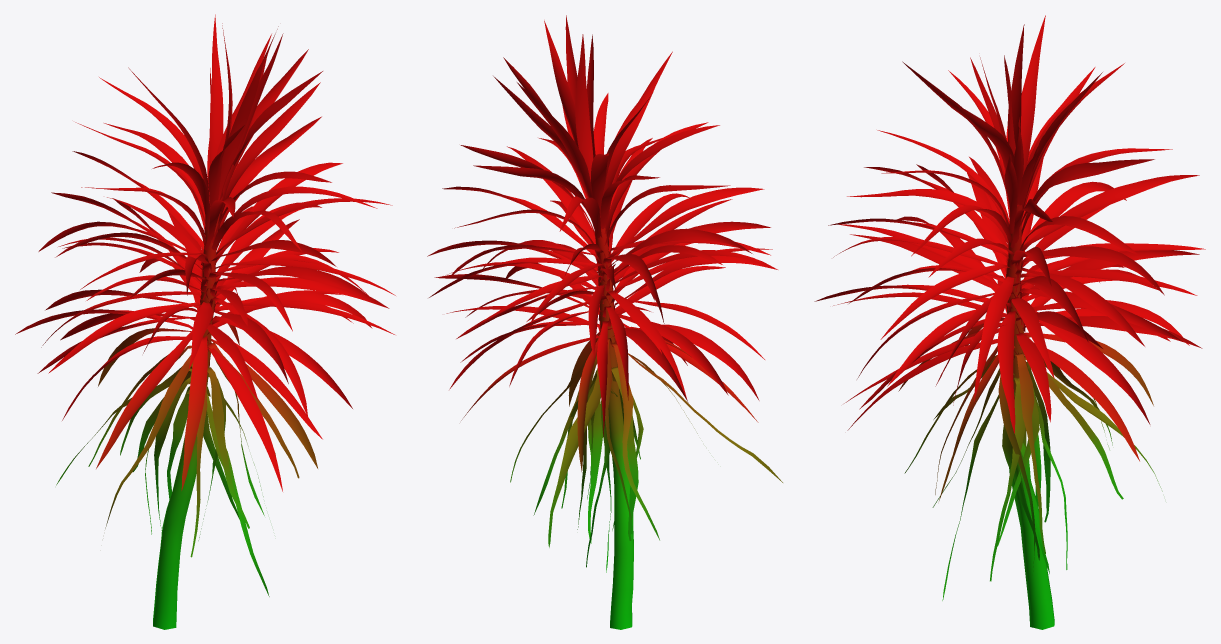
Rendered from Var1_LOD2.fbx.
The picture shows the model from 3 angles, left to right: view 1: azimuth 30°, elevation 25°; view 2: azimuth 150°, elevation 25°; view 3: azimuth 270°, elevation 25°; orthographic projection. The views are drawn at different scales.
Parts seen in each view (by area): view 1: _qvuh_Var1_LOD2; view 2: _qvuh_Var1_LOD2; view 3: _qvuh_Var1_LOD2.
Boxes of the visible parts, left/top/right/bottom form: _qvuh_Var1_LOD2: left=15, top=14, right=395, bottom=629; _qvuh_Var1_LOD2: left=427, top=15, right=782, bottom=629; _qvuh_Var1_LOD2: left=814, top=15, right=1205, bottom=629.
Size of the model in its own units: 80.78 by 146 by 82.91.
